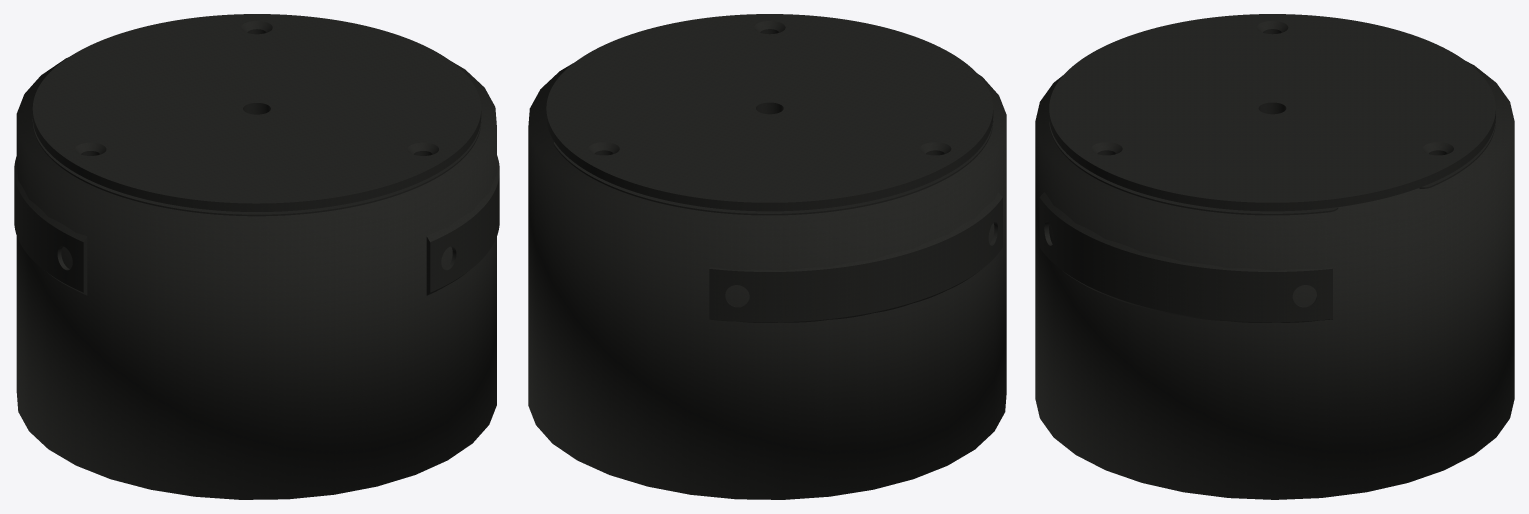
The model's file is Vib_simpleconfig_op.glb.
3 views of the same model, side by side, from view 1: azimuth 30°, elevation 25°; view 2: azimuth 150°, elevation 25°; view 3: azimuth 270°, elevation 25° (orthographic).
Parts seen in each view (by area): view 1: Asset3DLoader.sceneRoot; view 2: Asset3DLoader.sceneRoot; view 3: Asset3DLoader.sceneRoot.
Boxes of the visible parts, <box> form: Asset3DLoader.sceneRoot: <box>14,14,499,499</box>; Asset3DLoader.sceneRoot: <box>528,14,1006,499</box>; Asset3DLoader.sceneRoot: <box>1035,14,1514,499</box>.
Size of the model in its own units: 66.72 by 45.52 by 66.14.
Materials: 1 (1 with a texture image).
